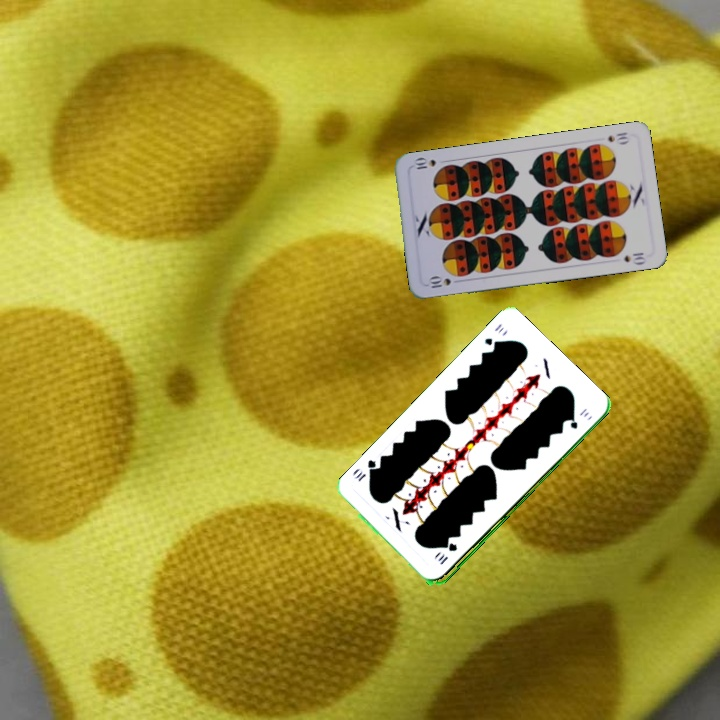G10: (480, 320, 506, 351), (436, 539, 460, 567)
S10: (603, 128, 633, 147), (425, 273, 453, 291)
